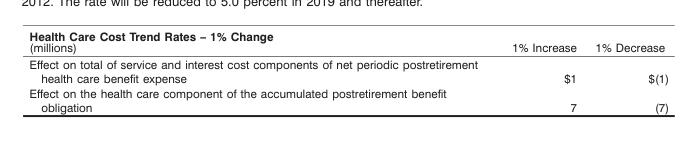table: (28, 28, 668, 113)
table column: (28, 28, 494, 113), (494, 28, 585, 113), (585, 28, 668, 113)
table column header: (28, 28, 668, 55)
table row: (28, 55, 668, 85), (28, 85, 668, 113), (28, 28, 668, 55)
